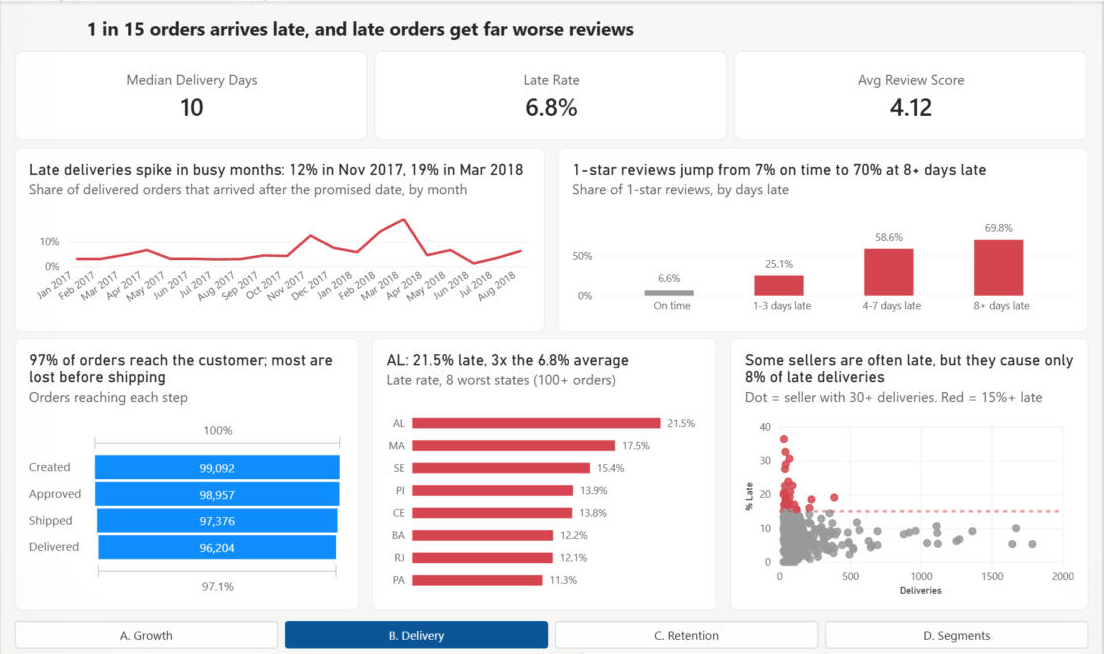

The dashboard page shown, as its layout file describes it:
{"tool":"powerbi","page":{"name":"B. Delivery","canvas":[1280,760],"ordinal":2},"visuals":[{"type":"cardVisual","fields":{"Data":["_Measures.Median Delivery Days","_Measures.Late Rate","_Measures.Avg Review Score"]},"box":[16,58,1248,104],"z":0},{"type":"lineChart","title":"Late deliveries spike in busy months: 12% in Nov 2017, 19% in Mar 2018","fields":{"Category":["DimDate.Month"],"Y":["_Measures.Late Rate"]},"box":[16,170,616,214],"z":1000},{"type":"clusteredColumnChart","title":"1-star reviews jump from 7% on time to 70% at 8+ days late","fields":{"Category":["vw_orders.Delay Group"],"Y":["_Measures.One Star Rate"]},"box":[648,170,616,214],"z":2000},{"type":"clusteredBarChart","title":"AL: 21.5% late, 3x the 6.8% average","fields":{"Category":["vw_orders.customer_state"],"Y":["_Measures.Late Rate (100+ orders)"]},"box":[432,392,400,316],"z":3000},{"type":"funnel","title":"97% of orders reach the customer; most are lost before shipping","fields":{"Category":["Funnel Steps.Step"],"Y":["_Measures.Funnel Orders"]},"box":[16,392,400,316],"z":4000},{"type":"textbox","box":[100,16,820,50],"z":5000},{"type":"scatterChart","title":"Some sellers are often late, but they cause only 8% of late deliveries","fields":{"Category":["vw_seller_delivery.Seller"],"X":["Sum(vw_seller_delivery.deliveries)"],"Y":["Avg(vw_seller_delivery.pct_late)"]},"box":[848,392,416,316],"z":6000},{"type":"pageNavigator","box":[16,720,1248,32],"z":6001}]}

Visuals, with their boxes in screenshot pixels (x1, y1, x2, y2), scaled from the page's 1280x760 canvas onto the 1104x654 screenshot:
cardVisual - _Measures.Median Delivery Days x _Measures.Late Rate: (left=14, top=50, right=1090, bottom=139)
"Late deliveries spike in busy months: 12% in Nov 2017, 19% in Mar 2018" lineChart: (left=14, top=146, right=545, bottom=330)
"1-star reviews jump from 7% on time to 70% at 8+ days late" clusteredColumnChart: (left=559, top=146, right=1090, bottom=330)
"AL: 21.5% late, 3x the 6.8% average" clusteredBarChart: (left=373, top=337, right=718, bottom=609)
"97% of orders reach the customer; most are lost before shipping" funnel: (left=14, top=337, right=359, bottom=609)
textbox: (left=86, top=14, right=794, bottom=57)
"Some sellers are often late, but they cause only 8% of late deliveries" scatterChart: (left=731, top=337, right=1090, bottom=609)
pageNavigator: (left=14, top=620, right=1090, bottom=647)
